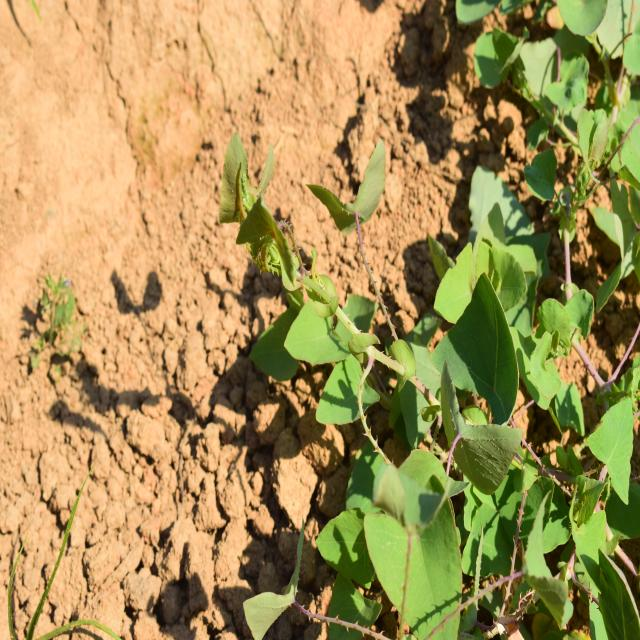Asiatic_Smartweed: (229, 146, 410, 434), (424, 224, 540, 530), (362, 464, 479, 638)
